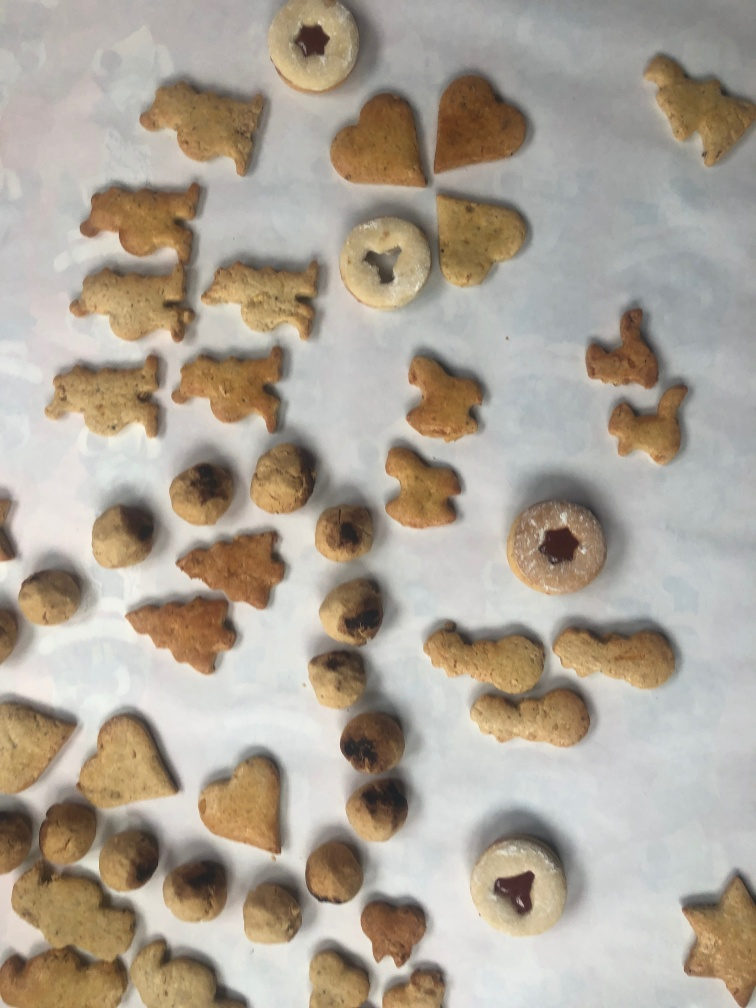christmas shortbread with jam: (463, 833, 569, 940), (506, 495, 611, 595), (336, 208, 432, 312), (262, 1, 362, 95)
christmas tree: (121, 591, 248, 690), (172, 522, 301, 607)
flake: (356, 895, 431, 961), (303, 939, 372, 1008)
heart: (426, 181, 539, 289), (427, 68, 538, 174), (73, 704, 179, 814), (197, 744, 308, 842), (328, 86, 433, 189), (1, 687, 86, 806)
king mage: (641, 46, 756, 176)
lamb: (397, 345, 491, 446), (381, 434, 465, 534)
santa claus: (134, 69, 280, 179), (10, 857, 138, 968), (201, 247, 341, 341), (40, 348, 167, 450), (202, 244, 332, 343), (80, 174, 212, 267), (65, 257, 198, 348), (172, 343, 290, 440), (128, 936, 238, 1007)
snowball: (314, 572, 398, 647), (84, 495, 163, 572), (246, 435, 315, 520), (344, 768, 416, 845), (161, 850, 230, 930), (15, 561, 93, 629), (165, 458, 228, 539), (301, 831, 364, 912), (300, 641, 373, 708), (242, 878, 308, 945), (340, 704, 404, 772), (314, 496, 377, 561), (38, 800, 102, 863), (99, 823, 161, 888)
snowman: (553, 612, 687, 689), (417, 615, 548, 690), (463, 681, 593, 745)
squirrel: (603, 377, 703, 473), (582, 292, 663, 400)
star: (673, 867, 756, 1008)
